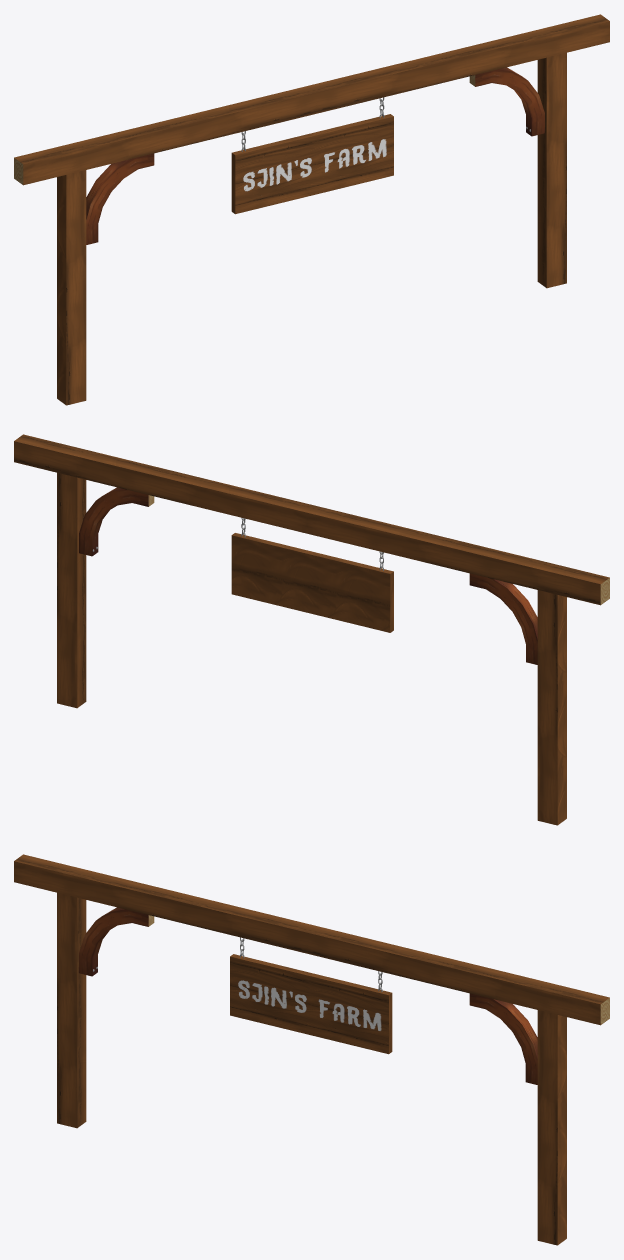
File: StartSign.FBX
3 renders of one model, top to bottom at view 1: azimuth 30°, elevation 25°; view 2: azimuth 150°, elevation 25°; view 3: azimuth 330°, elevation 25°, orthographic.
Parts seen in each view (by area): view 1: StartSign; view 2: StartSign; view 3: StartSign.
Part boxes in pixels (left/top/right/bottom): StartSign: left=14, top=14, right=609, bottom=405; StartSign: left=14, top=434, right=609, bottom=825; StartSign: left=14, top=854, right=609, bottom=1245.
Bounding box in the file's own units: 293 × 120 × 8.01.
5 materials, 4 textured.
